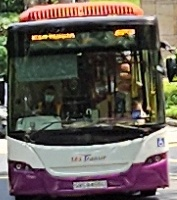bus: (109, 29, 140, 46)
